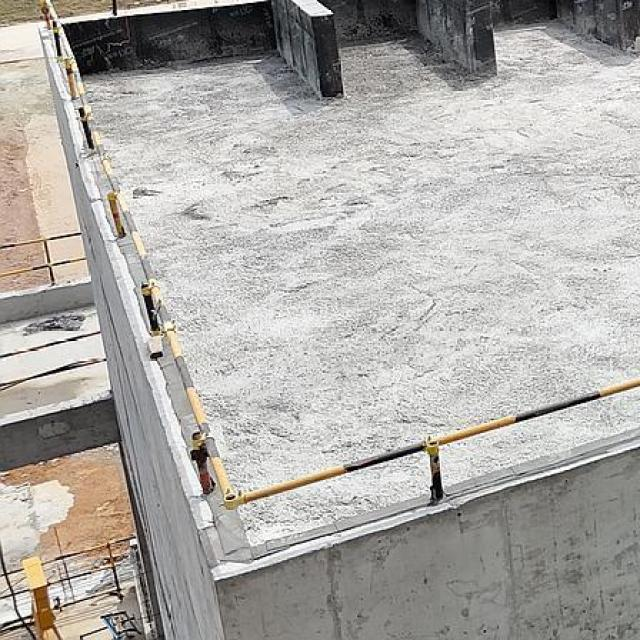edge_guardrail: (38, 0, 640, 511), (0, 526, 140, 631), (0, 329, 109, 388), (0, 230, 87, 286)
